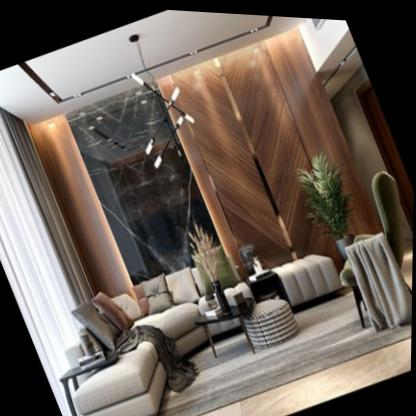Curtains: (0, 106, 99, 416)
Sofa: (34, 200, 369, 416)
Wall Panel: (25, 9, 375, 321)
